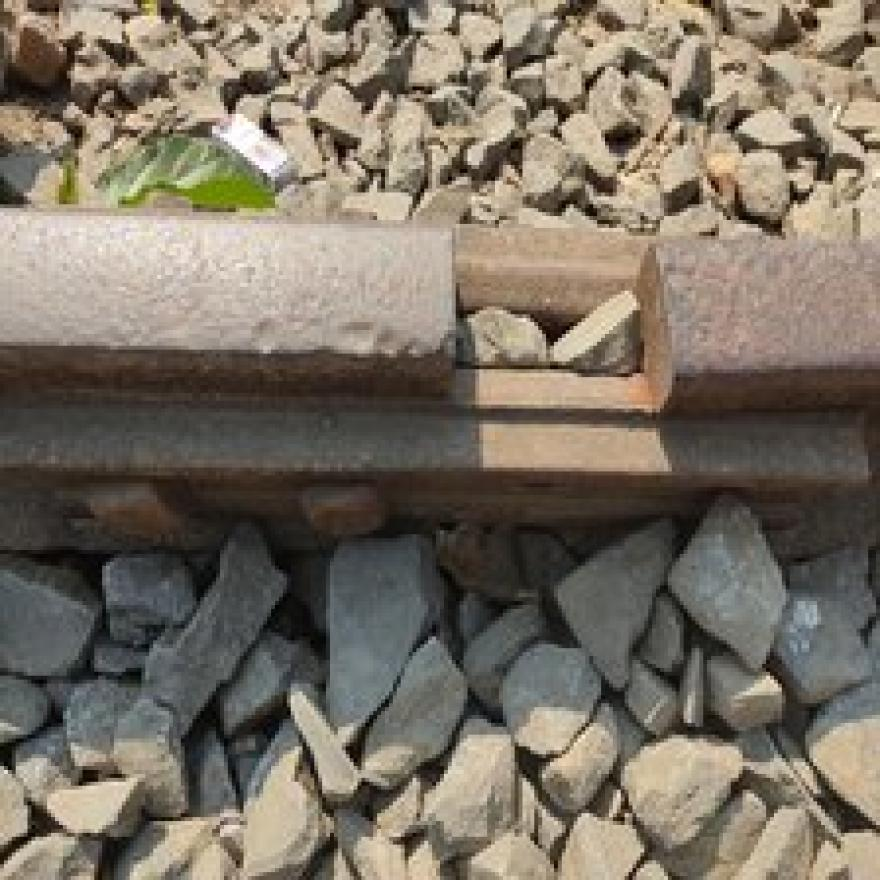railway-gap: (352, 115, 745, 499)
